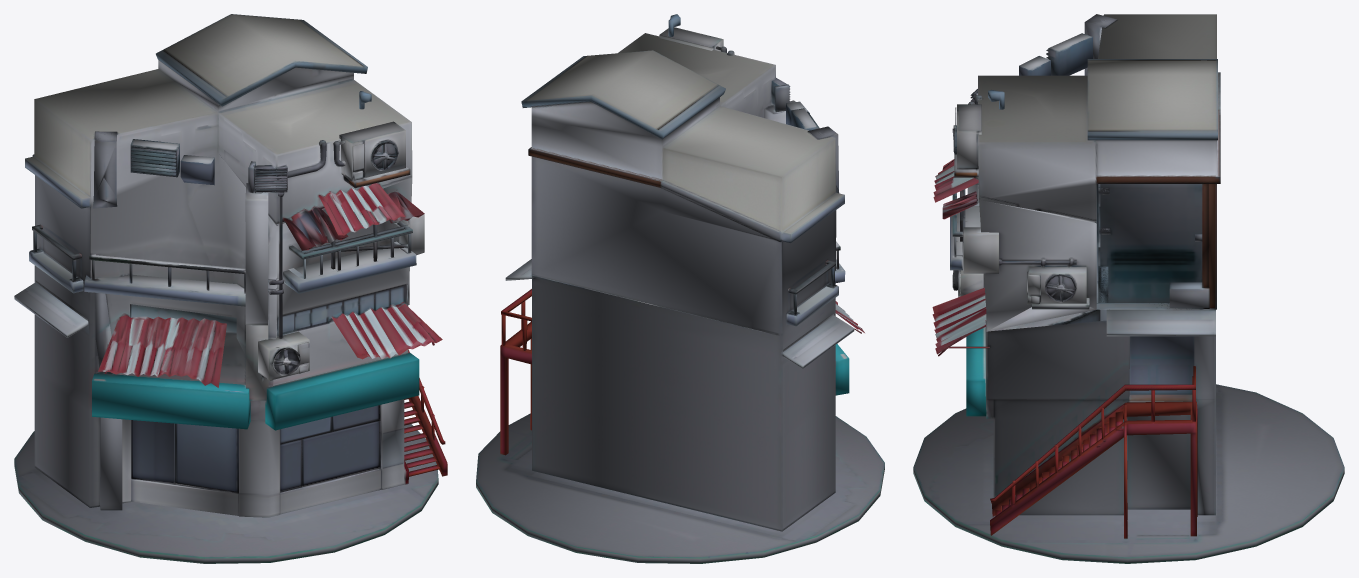
The model's file is bldg_urban.glb.
3 views of the same model, side by side, from view 1: azimuth 30°, elevation 25°; view 2: azimuth 150°, elevation 25°; view 3: azimuth 270°, elevation 25° (orthographic). The views are drawn at different scales.
Visible parts, largest first — view 1: tripo_node_67234c25-7e4d-401c-968e-66836af8c3a9; view 2: tripo_node_67234c25-7e4d-401c-968e-66836af8c3a9; view 3: tripo_node_67234c25-7e4d-401c-968e-66836af8c3a9.
Boxes of the visible parts, bbox=[...] form: tripo_node_67234c25-7e4d-401c-968e-66836af8c3a9: bbox=[14, 14, 447, 563]; tripo_node_67234c25-7e4d-401c-968e-66836af8c3a9: bbox=[476, 14, 884, 563]; tripo_node_67234c25-7e4d-401c-968e-66836af8c3a9: bbox=[913, 14, 1344, 563].
Size of the model in its own units: 0.9238 by 0.998 by 0.9238.
1 material, 1 textured.
